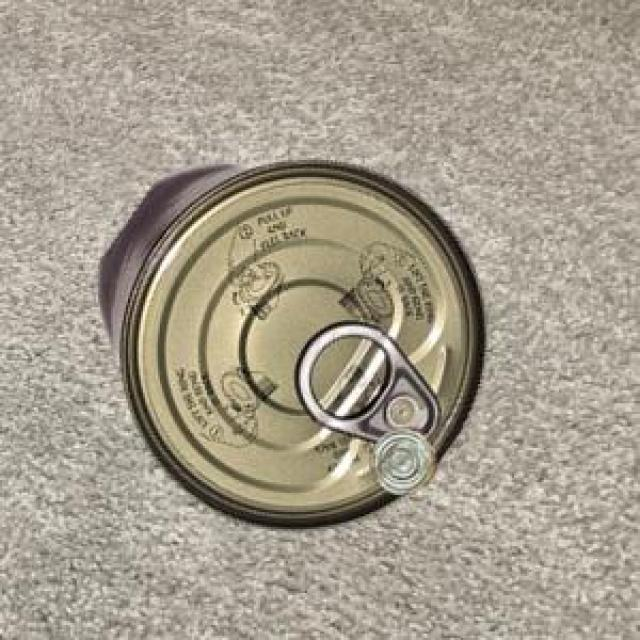logam: (95, 157, 483, 528), (368, 426, 434, 492)
